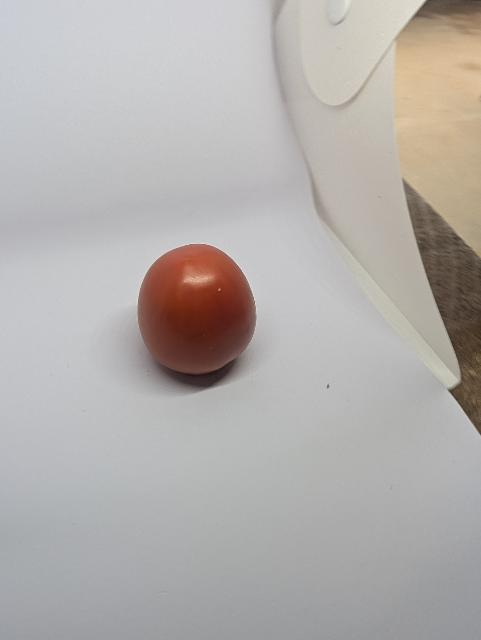red: (129, 235, 268, 391)
